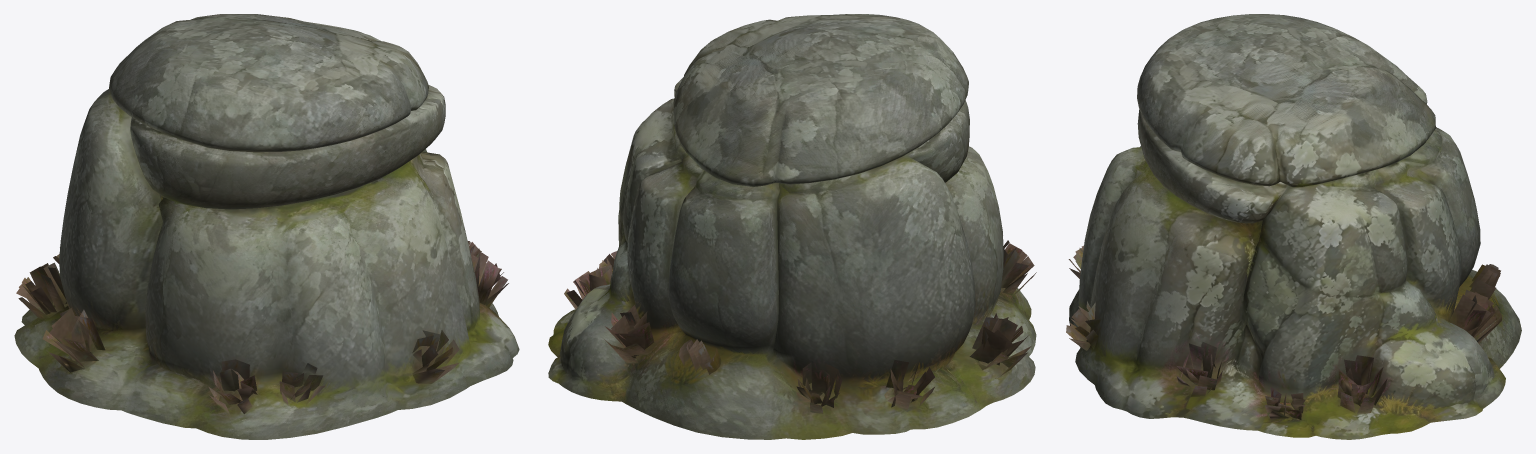
Rendered from SM_Env_BaskervilleMoorTorBoulder.fbx.
3 renders of one model, left to right at view 1: azimuth 30°, elevation 25°; view 2: azimuth 150°, elevation 25°; view 3: azimuth 270°, elevation 25°, orthographic. The views are drawn at different scales.
Visible parts, largest first — view 1: SM_Env_BaskervilleMoorTorBoulder; view 2: SM_Env_BaskervilleMoorTorBoulder; view 3: SM_Env_BaskervilleMoorTorBoulder.
Part boxes in pixels (x1,y1,x2,y2): SM_Env_BaskervilleMoorTorBoulder: [14, 14, 519, 439]; SM_Env_BaskervilleMoorTorBoulder: [548, 14, 1036, 439]; SM_Env_BaskervilleMoorTorBoulder: [1066, 14, 1521, 439].
Bounding box in the file's own units: 53.28 × 51.31 × 36.
Materials: 1 (1 with a texture image).
